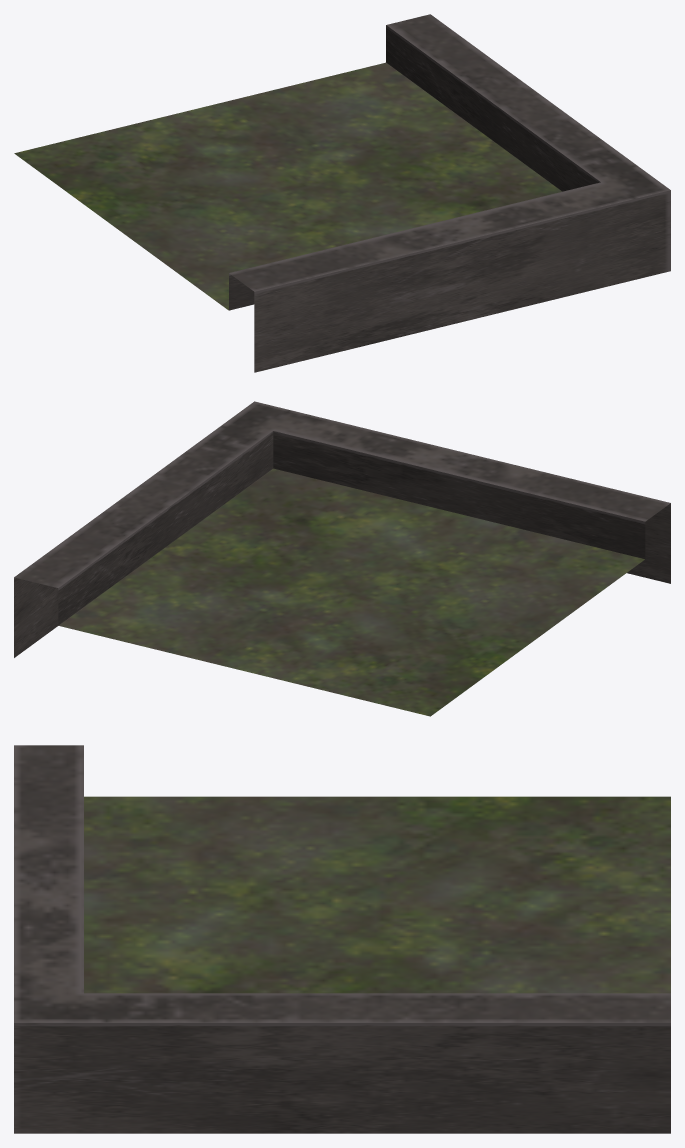
Rendered from Modular garden 2 sides.fbx.
3 renders of one model, top to bottom at view 1: azimuth 30°, elevation 25°; view 2: azimuth 150°, elevation 25°; view 3: azimuth 270°, elevation 25°, orthographic. The views are drawn at different scales.
Visible parts, largest first — view 1: Jardim vazado 2; view 2: Jardim vazado 2; view 3: Jardim vazado 2.
Boxes of the visible parts, x1,y1,x2,y2 form: Jardim vazado 2: [14, 14, 670, 372]; Jardim vazado 2: [14, 401, 670, 716]; Jardim vazado 2: [14, 745, 670, 1133].
Bounding box in the file's own units: 144 × 26.77 × 144.
